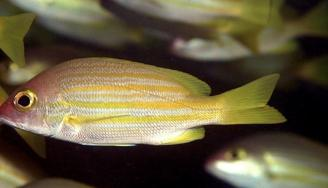Lutjanidae -Snappers-: (0, 47, 295, 152)
